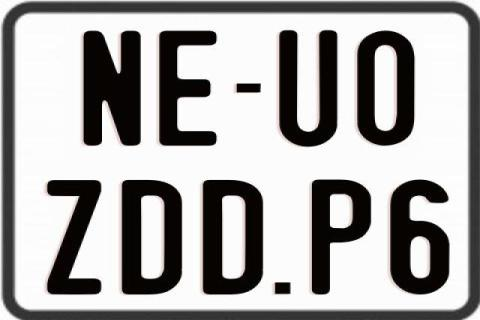0: (389, 178, 453, 296), (355, 29, 416, 145)
D: (200, 178, 266, 294), (120, 178, 184, 296)
E: (159, 30, 221, 148)
N: (82, 28, 141, 146)
P: (312, 178, 372, 294)
U: (278, 30, 339, 150)
Z: (48, 180, 104, 296)
